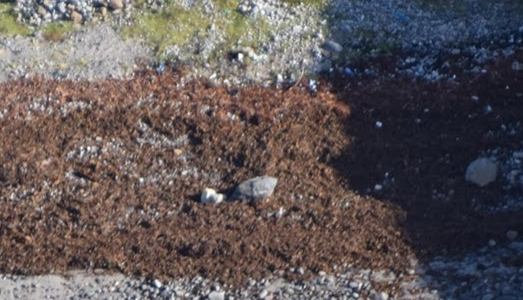white_in_green: (328, 52, 369, 89)
